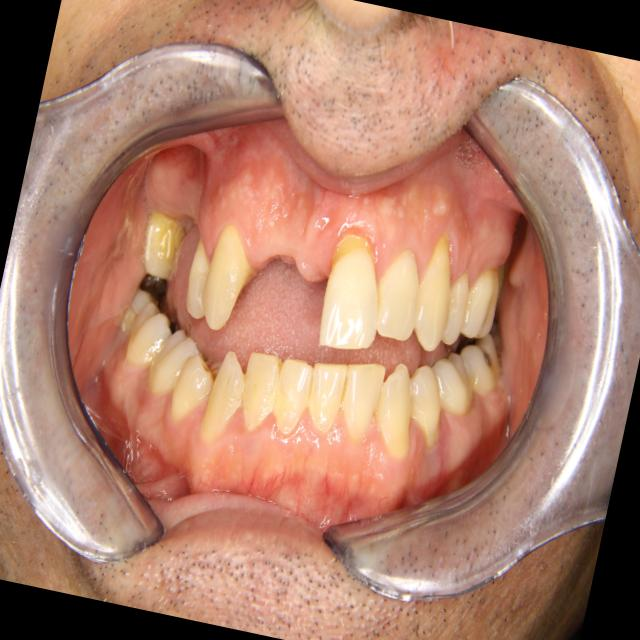tooth: (305, 228, 398, 362), (190, 218, 269, 341), (401, 230, 467, 356), (364, 353, 429, 465), (365, 241, 434, 345), (391, 352, 457, 454), (195, 342, 255, 452), (140, 319, 212, 407), (261, 348, 322, 450), (165, 344, 230, 433), (330, 353, 390, 448), (232, 341, 290, 439), (449, 317, 512, 403), (453, 251, 509, 347), (418, 342, 485, 422), (132, 202, 192, 290), (121, 296, 181, 378), (432, 259, 482, 353), (299, 353, 352, 439), (176, 227, 223, 322), (124, 267, 171, 323)
